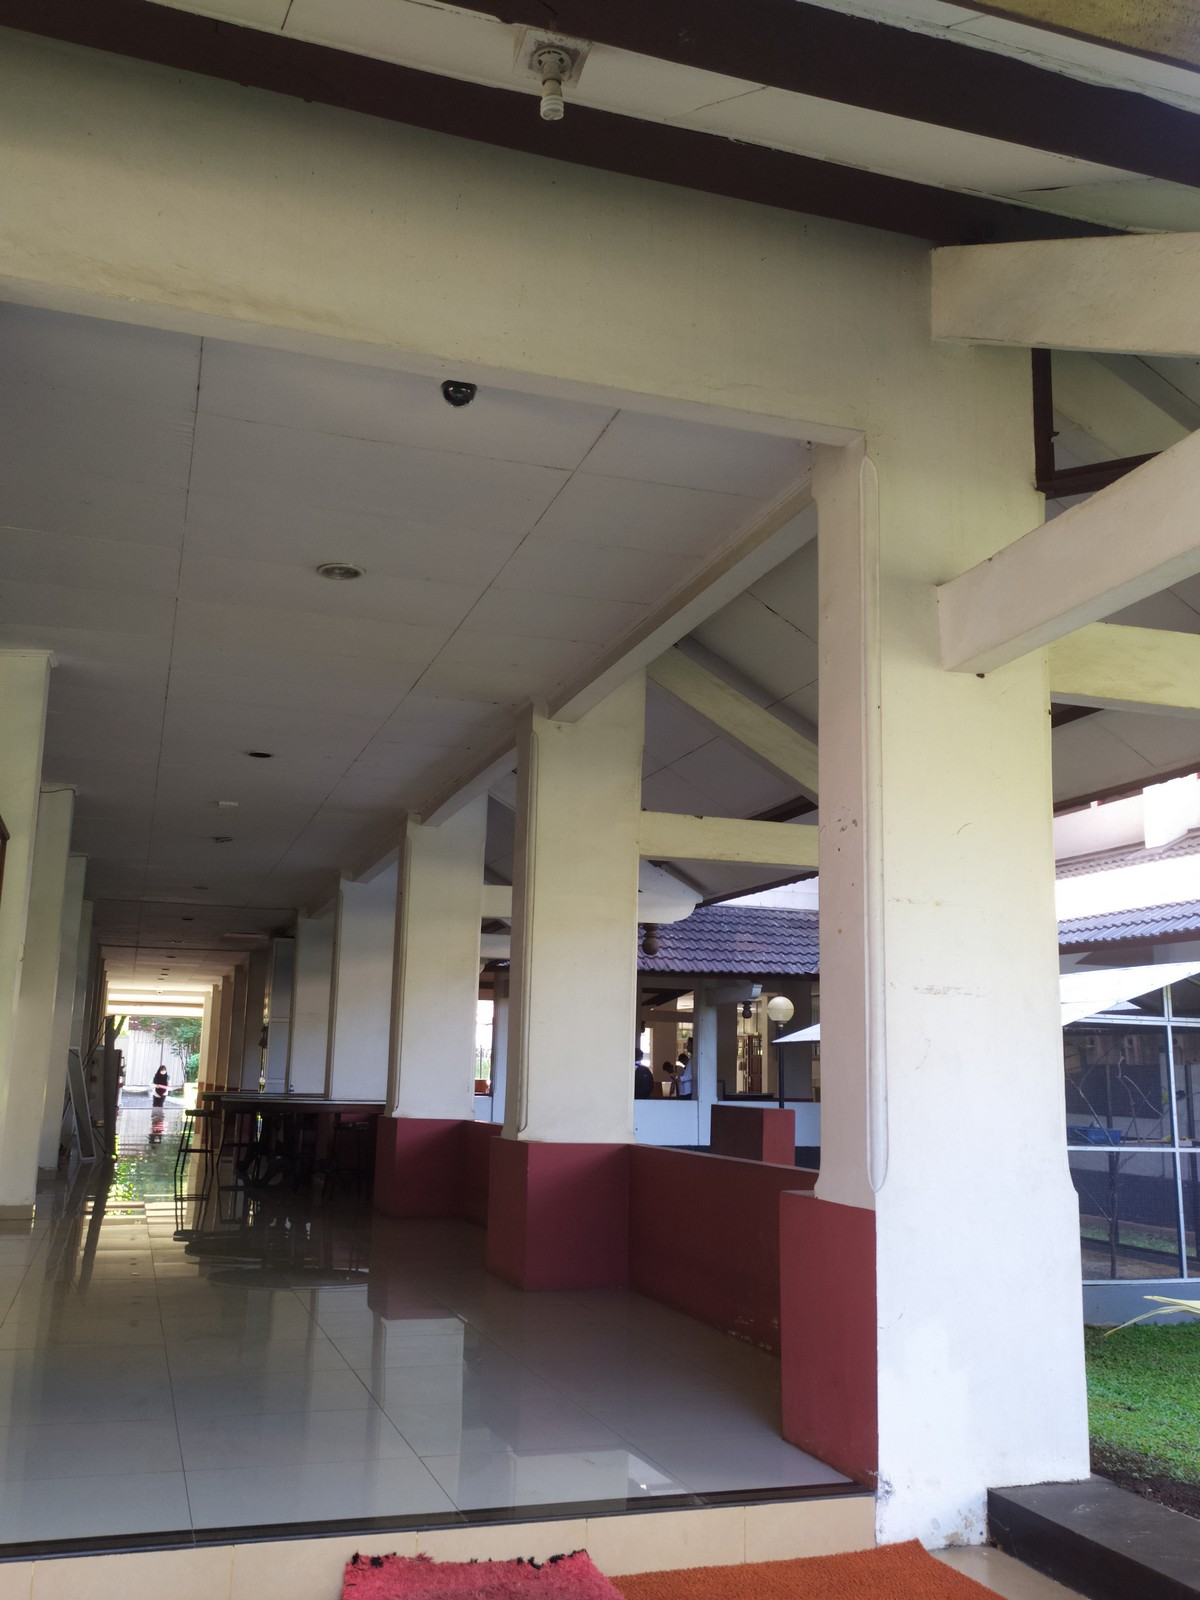concrete beam: (921, 431, 1187, 693), (1046, 619, 1200, 726), (630, 796, 829, 877)
concrete column: (808, 414, 1095, 1490), (511, 689, 648, 1275), (379, 815, 487, 1225)
